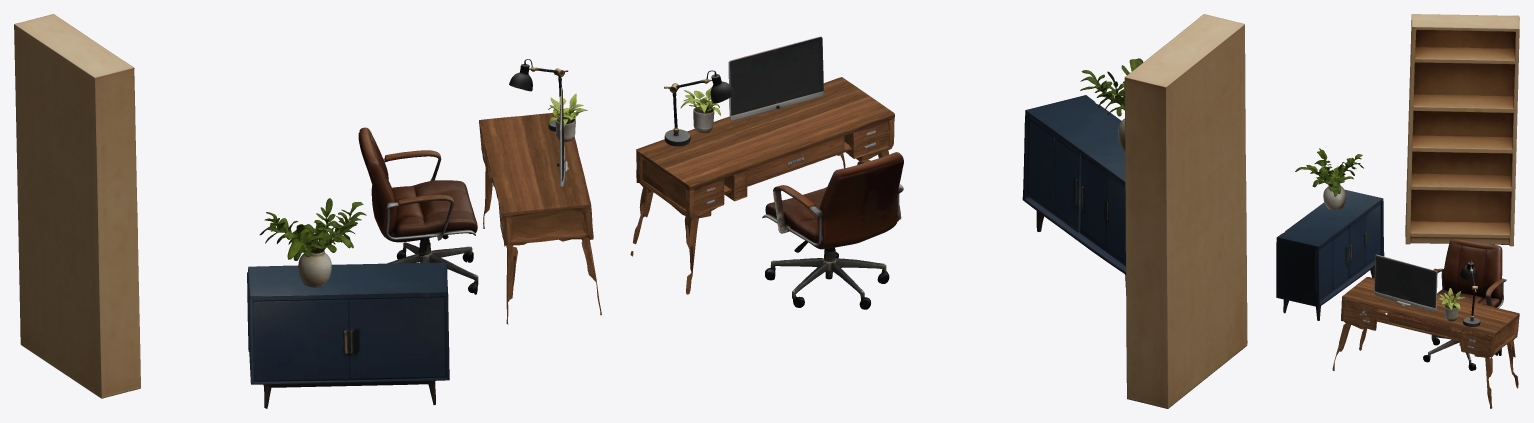
File: study.glb
3 renders of one model, left to right at view 1: azimuth 30°, elevation 25°; view 2: azimuth 150°, elevation 25°; view 3: azimuth 270°, elevation 25°, orthographic. The views are drawn at different scales.
Parts seen in each view (by area): view 1: obj_4_part_0, obj_0_part_0, obj_2_part_0, obj_3_part_0, obj_7_part_0, obj_8_part_0, obj_6_part_0; view 2: obj_4_part_0, obj_2_part_0, obj_3_part_0, obj_0_part_0, obj_5_part_0, obj_0_part_2, obj_0_part_1, obj_2_part_5, obj_2_part_4, obj_6_part_0, obj_7_part_0, obj_8_part_0 (+1 smaller); view 3: obj_4_part_0, obj_2_part_0, obj_0_part_0, obj_3_part_0, obj_5_part_0, obj_0_part_1, obj_0_part_2, obj_7_part_0, obj_2_part_1, obj_6_part_0, obj_8_part_0, obj_2_part_4.
Boxes of the visible parts, x1,y1,x2,y2 form: obj_4_part_0: [14, 14, 140, 398]; obj_0_part_0: [248, 262, 449, 408]; obj_2_part_0: [479, 112, 601, 324]; obj_3_part_0: [358, 127, 478, 294]; obj_7_part_0: [259, 198, 366, 287]; obj_8_part_0: [548, 93, 587, 141]; obj_6_part_0: [509, 59, 568, 131]; obj_4_part_0: [1124, 14, 1247, 408]; obj_2_part_0: [630, 77, 901, 294]; obj_3_part_0: [762, 152, 903, 309]; obj_0_part_0: [1022, 95, 1125, 287]; obj_5_part_0: [728, 36, 823, 120]; obj_0_part_2: [1028, 117, 1081, 232]; obj_0_part_1: [1080, 154, 1125, 265]; obj_2_part_5: [724, 136, 844, 194]; obj_2_part_4: [639, 158, 724, 213]; obj_6_part_0: [664, 70, 734, 146]; obj_7_part_0: [1080, 58, 1143, 151]; obj_8_part_0: [680, 87, 720, 132]; obj_4_part_0: [1405, 14, 1519, 246]; obj_2_part_0: [1332, 277, 1519, 408]; obj_0_part_0: [1276, 189, 1384, 320]; obj_3_part_0: [1423, 238, 1506, 370]; obj_5_part_0: [1374, 254, 1437, 311]; obj_0_part_1: [1348, 203, 1380, 278]; obj_0_part_2: [1315, 226, 1348, 300]; obj_7_part_0: [1295, 148, 1363, 210]; obj_2_part_1: [1388, 311, 1469, 345]; obj_6_part_0: [1460, 260, 1480, 326]; obj_8_part_0: [1438, 288, 1464, 321]; obj_2_part_4: [1470, 318, 1519, 353].
Size of the model in its own units: 5.6 by 3.17 by 3.19.
Materials: 10 (9 with a texture image).
